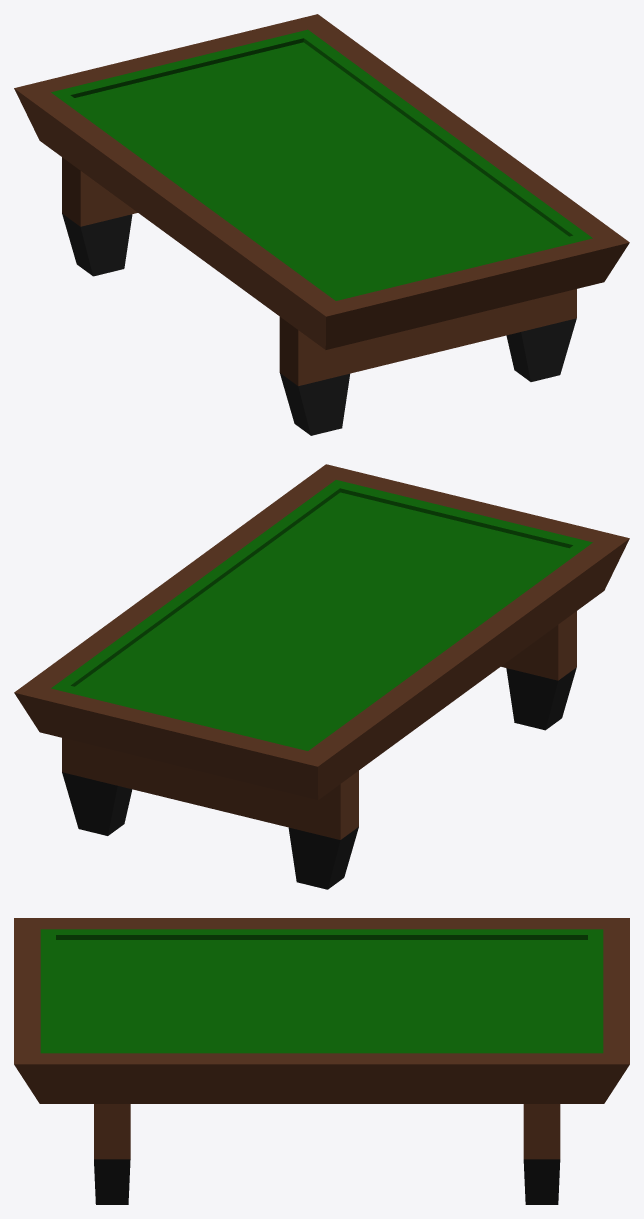
File: pool_table.glb
3 views of the same model, one above another, from view 1: azimuth 30°, elevation 25°; view 2: azimuth 150°, elevation 25°; view 3: azimuth 270°, elevation 25° (orthographic).
Visible parts, largest first — view 1: Cube; view 2: Cube; view 3: Cube.
Boxes of the visible parts, x1,y1,x2,y2 form: Cube: (14, 14, 629, 435); Cube: (14, 464, 629, 889); Cube: (14, 918, 629, 1204).
Size of the model in its own units: 1.63 by 0.8 by 2.9.
